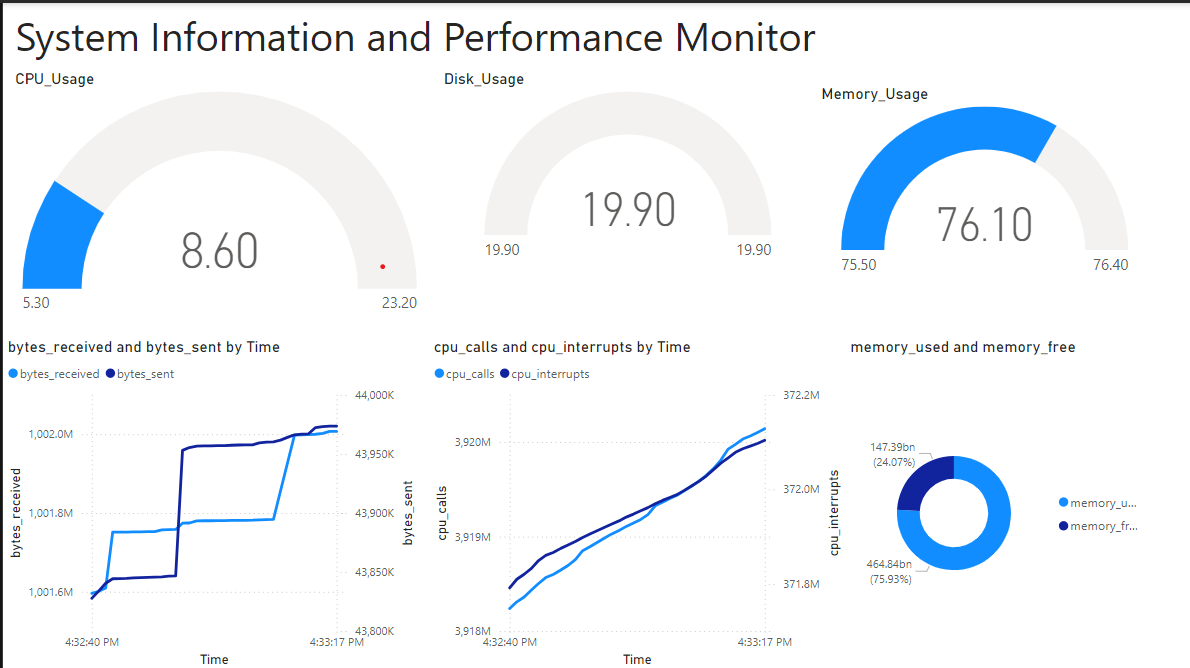

Layout of this report page (visuals, bound fields, positions):
{"tool":"powerbi","page":{"name":"Page 1","canvas":[1280,720],"ordinal":0},"visuals":[{"type":"textbox","box":[8.7,0,1271.3,70.9],"z":0},{"type":"gauge","title":"CPU_Usage","fields":{"Y":["Performance.cpu_usage_latest"],"MinValue":["Min(Performance.cpu_usage)"],"MaxValue":["Max(Performance.cpu_usage)1"]},"box":[8.1,71.4,451,273.3],"z":1000},{"type":"gauge","title":"Memory_Usage","fields":{"Y":["Performance.memory_usage_latest"],"MinValue":["Min(Performance.memory_usage)"],"MaxValue":["Max(Performance.memory_usage)1"]},"box":[876.4,87.5,362.1,215.4],"z":1001},{"type":"gauge","title":"Disk_Usage","fields":{"Y":["Performance.disk_usage_latest"],"MinValue":["Min(Performance.disk_usage)"],"MaxValue":["Max(Performance.disk_usage)1"]},"box":[469.8,71.4,406.6,215.4],"z":1002},{"type":"lineChart","fields":{"Category":["Performance.Time"],"Y":["Sum(Performance.bytes_received)"],"Y2":["Sum(Performance.bytes_sent)"]},"box":[0,359.4,448.3,360.8],"z":1003},{"type":"lineChart","fields":{"Category":["Performance.Time"],"Y":["Sum(Performance.cpu_calls)"],"Y2":["Sum(Performance.cpu_interrupts)"]},"box":[459.1,359.4,448.3,360.8],"z":1004},{"type":"donutChart","fields":{"Y":["Sum(Performance.memory_used)","Sum(Performance.memory_free)"]},"box":[907,359,331,361],"z":1005}]}

Visuals, with their boxes in screenshot pixels (x1, y1, x2, y2), scaled from the page's 1280x720 canvas onto the 1190x668 screenshot:
textbox: 8,0,1189,66
"CPU_Usage" gauge: 8,66,427,320
"Memory_Usage" gauge: 815,81,1151,281
"Disk_Usage" gauge: 437,66,815,266
lineChart - Performance.Time x Sum(Performance.bytes_received): 0,333,417,667
lineChart - Performance.Time x Sum(Performance.cpu_calls): 427,333,844,667
donutChart - Sum(Performance.memory_used) x Sum(Performance.memory_free): 843,333,1151,667
